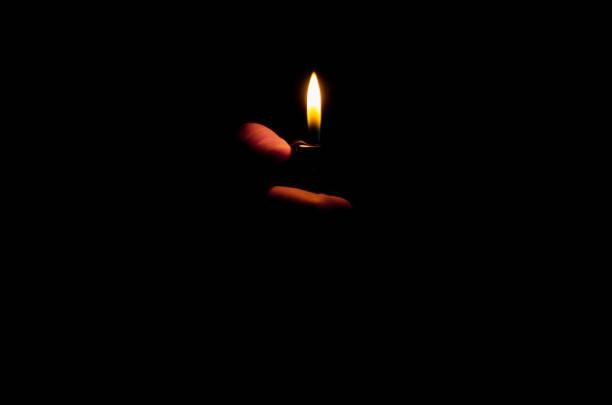Fire: (302, 70, 326, 136)
